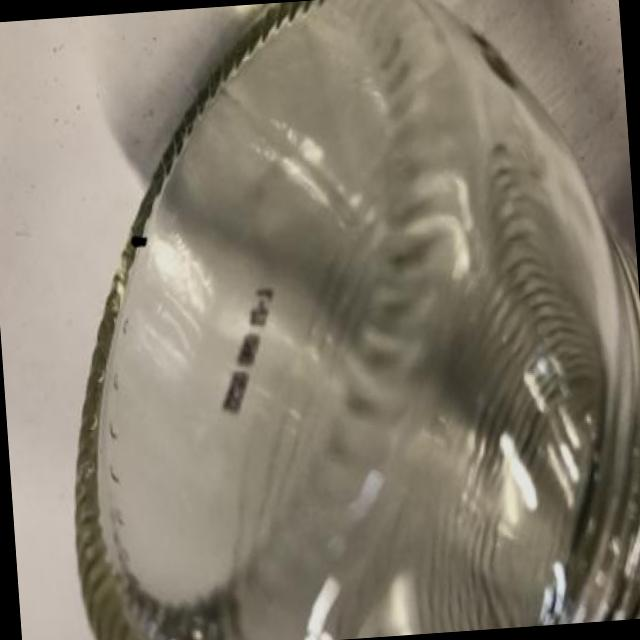chai_thuy_tinh: (73, 0, 640, 640)
